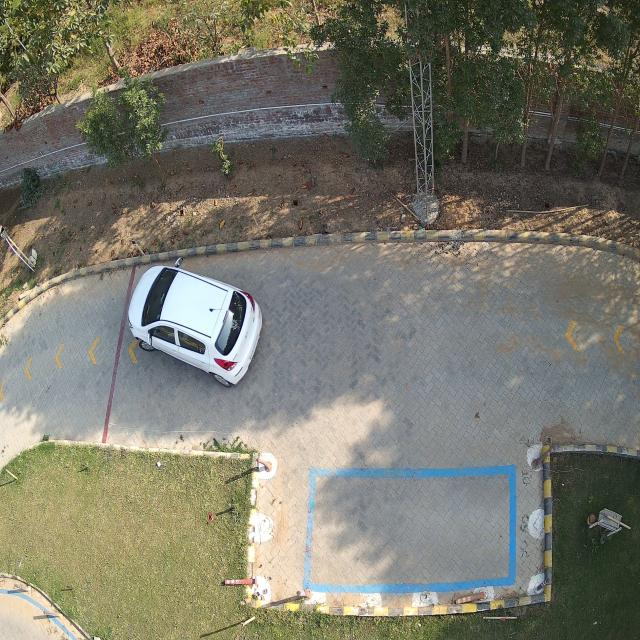car: (128, 260, 262, 387)
